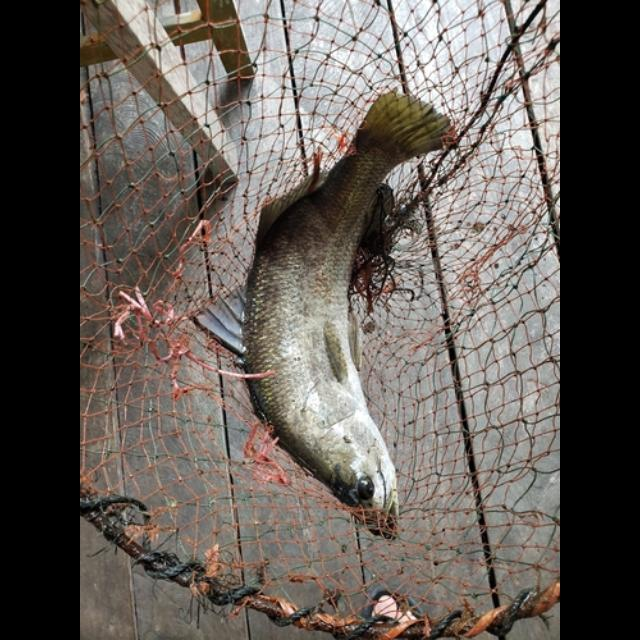Seabass: (198, 90, 458, 538)
